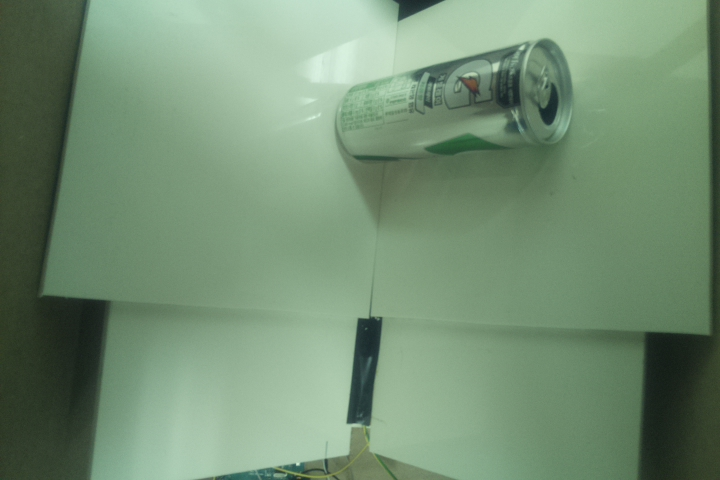can: (331, 36, 582, 165)
